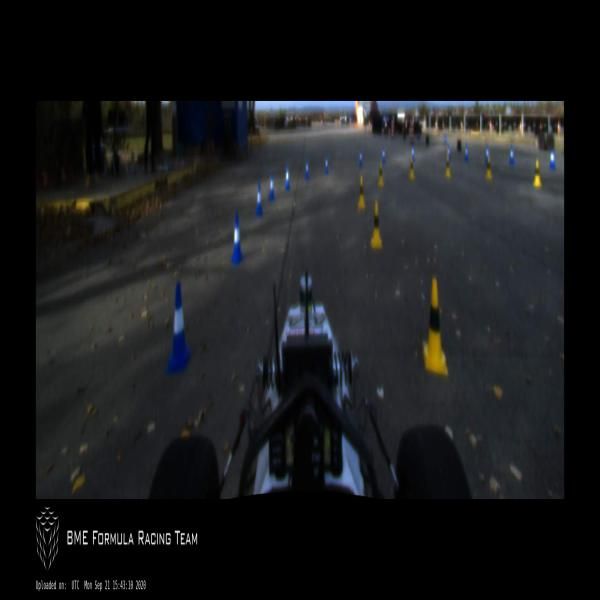blue_cone: (166, 281, 191, 375), (231, 213, 243, 263), (255, 183, 263, 216), (269, 173, 275, 200), (285, 164, 290, 190), (550, 148, 555, 168), (305, 158, 309, 180), (359, 149, 363, 167), (510, 146, 514, 164), (485, 146, 489, 163), (325, 154, 328, 174), (382, 147, 385, 164), (465, 145, 468, 161), (412, 146, 414, 160)
yellow_cone: (423, 278, 448, 375), (372, 202, 381, 247), (358, 176, 365, 209), (534, 160, 542, 188), (378, 162, 384, 186), (445, 154, 451, 178), (486, 155, 492, 179), (410, 157, 414, 180)
